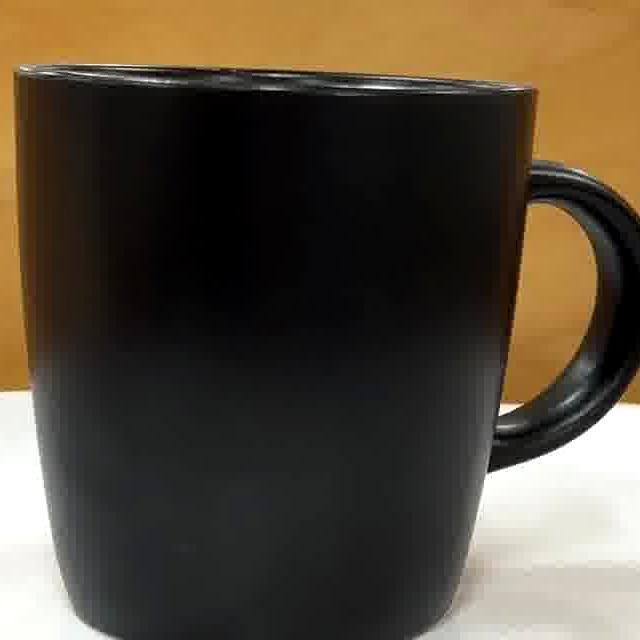cup: (25, 76, 640, 640)
